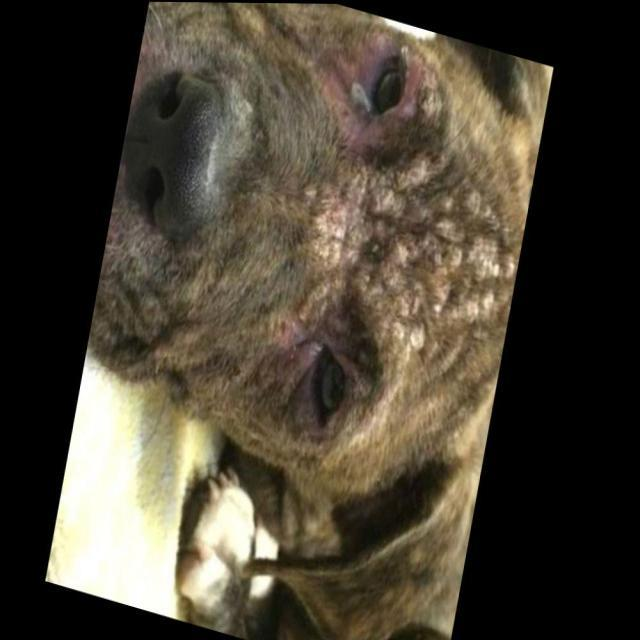allergic dermatitis: (312, 163, 514, 334)
